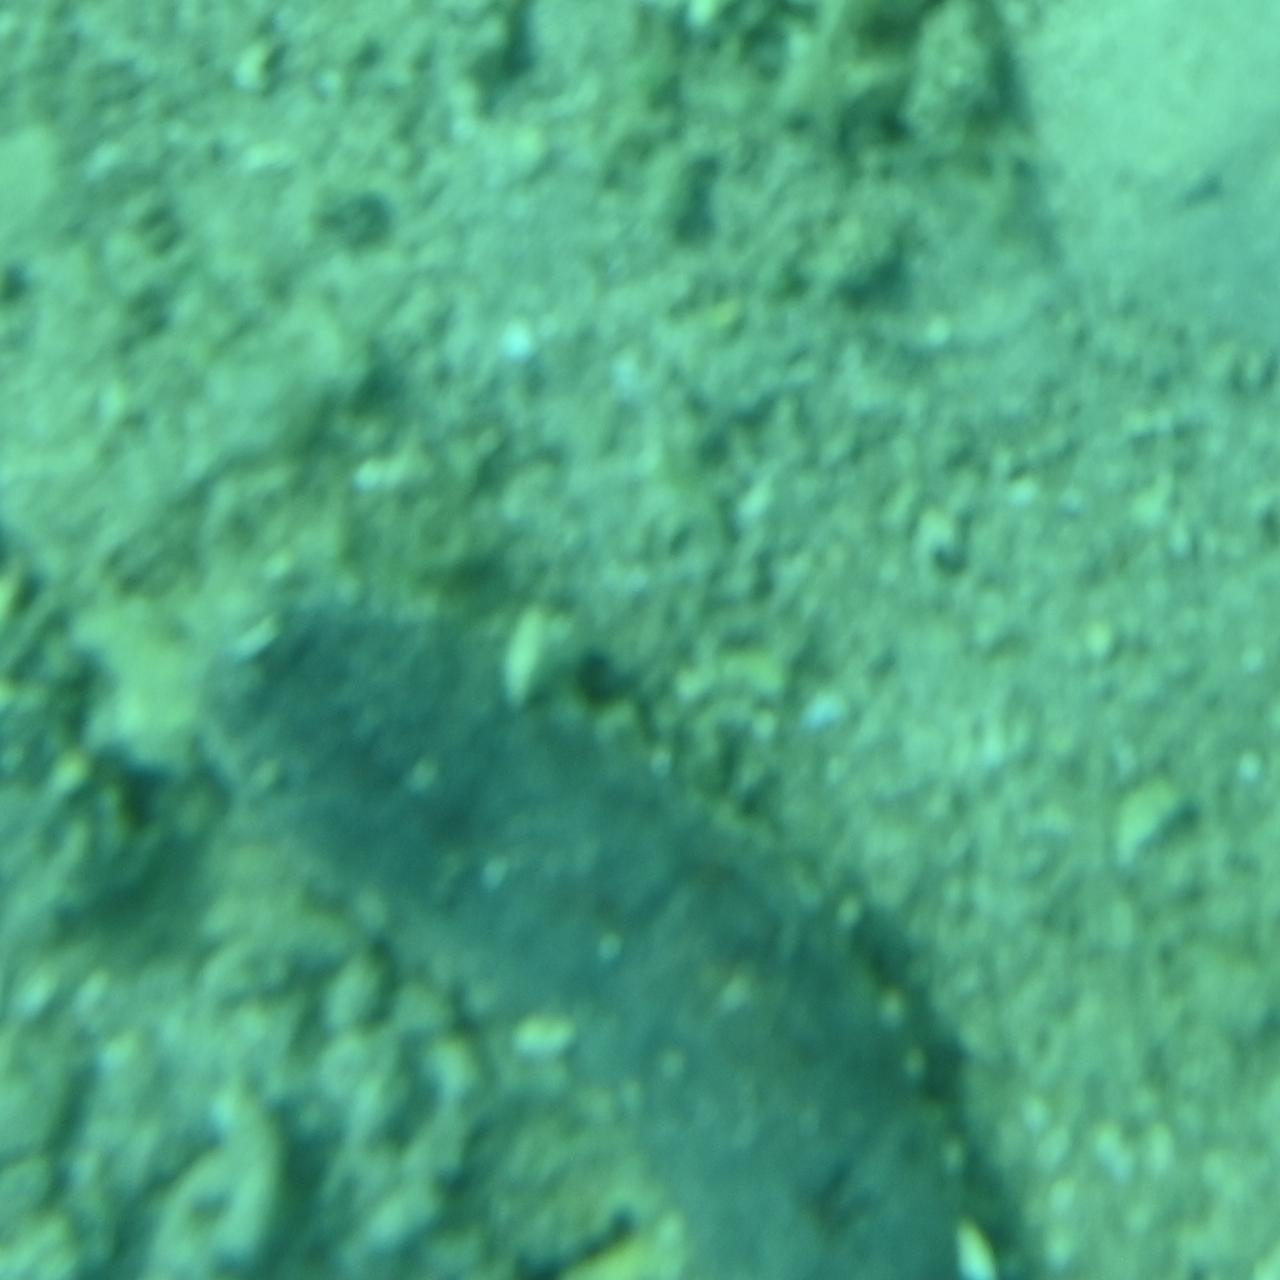Holothuria tubulosa: (196, 590, 1084, 1278)
